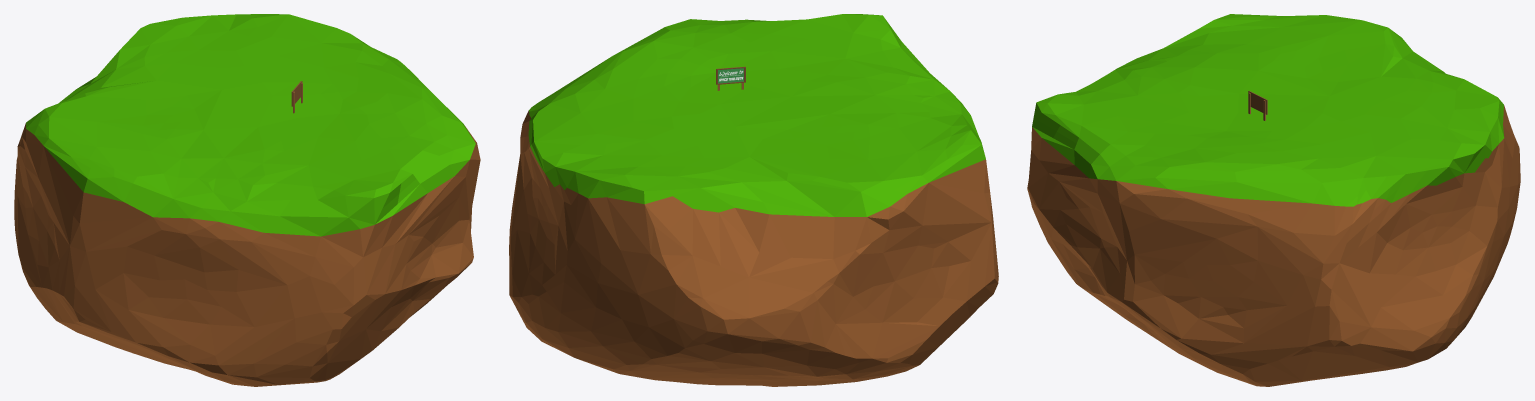
File: defaultPlanet.glb
The picture shows the model from 3 angles, left to right: view 1: azimuth 30°, elevation 25°; view 2: azimuth 150°, elevation 25°; view 3: azimuth 270°, elevation 25°; orthographic projection. The views are drawn at different scales.
Visible parts, largest first — view 1: Cube; view 2: Cube, Cube.061; view 3: Cube.
Part boxes in pixels (box(x1,y1,x2,y2)): Cube: box(14, 14, 480, 386); Cube: box(509, 14, 998, 386); Cube.061: box(716, 66, 745, 90); Cube: box(1027, 14, 1520, 386).
Bounding box in the file's own units: 98.31 × 60.54 × 102.
4 materials, 2 textured.
